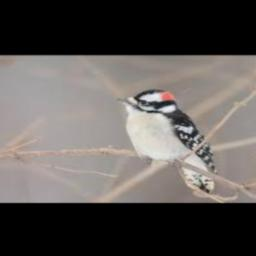Woodpecker: (117, 89, 217, 194)
